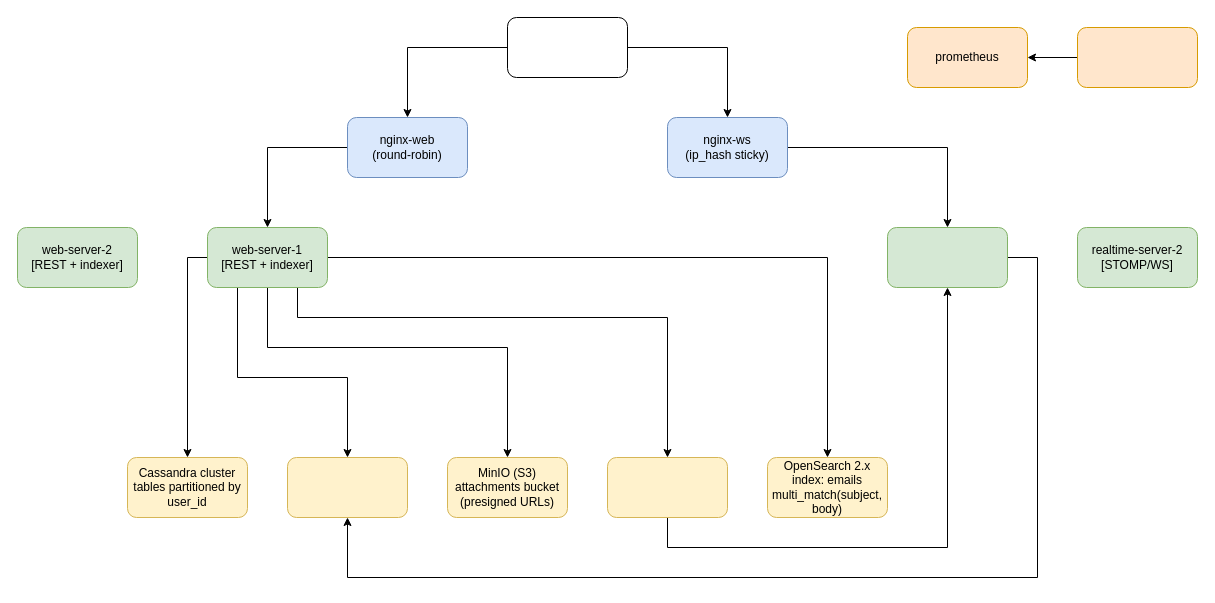
The diagram is 1215 pixels wide and 603 high, and some of its shapes have lost their labels. The centre of each missing label's shape, as x and y in pixels:
"Client" belongs at pixel 567 47.
"grafana" belongs at pixel 1137 57.
"Kafka (KRaft) topic: email-events (12 partitions) key = userId" belongs at pixel 667 487.
"realtime-server-1 [STOMP/WS]" belongs at pixel 947 257.
"Redis 7 cache + WS session registry + pub/sub" belongs at pixel 347 487.
